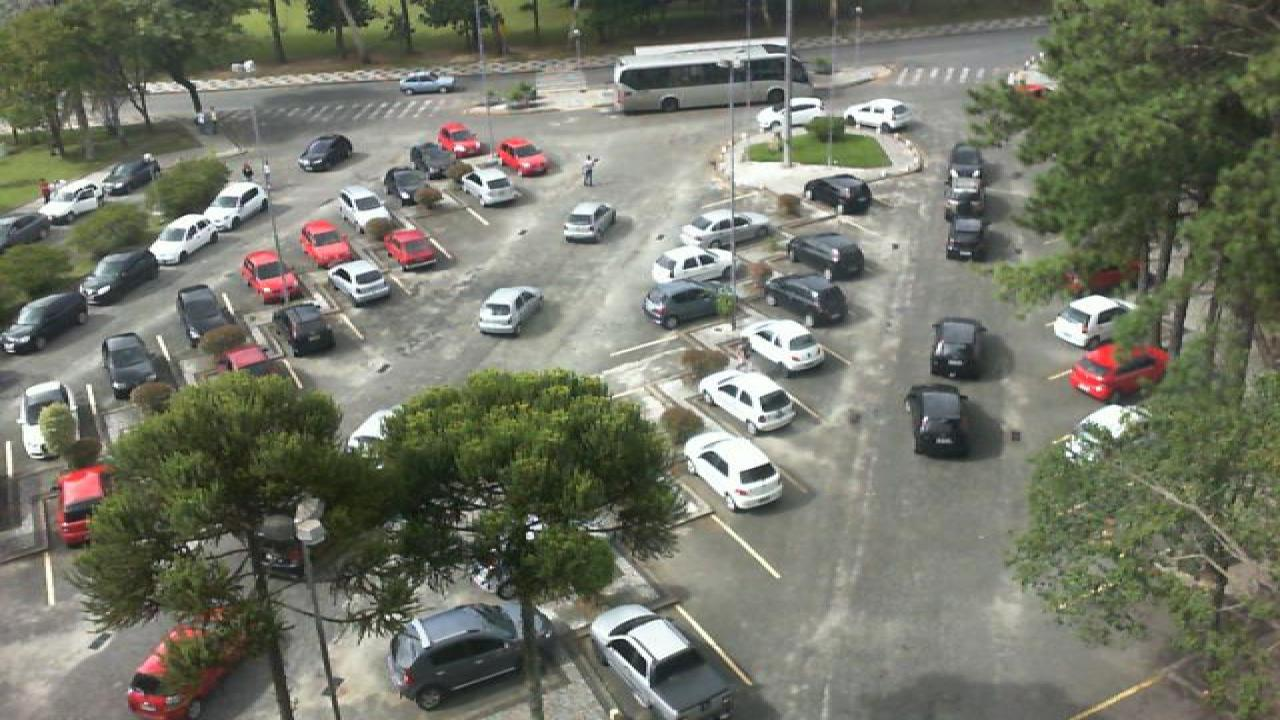Car: (590, 604, 742, 720), (388, 603, 528, 710), (124, 622, 258, 720), (684, 430, 786, 510), (698, 371, 796, 436), (1068, 343, 1172, 403), (0, 292, 92, 354), (56, 463, 116, 546), (742, 318, 830, 374), (906, 383, 970, 459), (18, 380, 78, 460), (768, 272, 850, 328), (100, 332, 166, 400), (78, 251, 160, 305), (1052, 294, 1130, 350), (640, 284, 730, 330), (784, 231, 868, 279), (676, 207, 776, 247), (146, 212, 220, 266), (176, 284, 236, 348), (270, 303, 338, 359), (928, 316, 986, 378), (198, 181, 270, 230), (238, 248, 300, 304), (478, 284, 544, 336), (650, 246, 734, 286), (326, 259, 394, 307), (802, 173, 874, 216), (298, 219, 356, 270), (382, 228, 448, 272), (458, 164, 522, 207), (40, 182, 104, 221), (338, 184, 394, 228), (0, 208, 52, 253), (562, 203, 618, 244), (498, 136, 552, 178), (296, 133, 352, 173), (96, 160, 158, 196), (844, 98, 916, 129), (382, 164, 436, 202), (944, 216, 986, 262), (410, 142, 458, 181), (944, 178, 986, 221), (436, 122, 482, 158), (944, 146, 986, 184)
